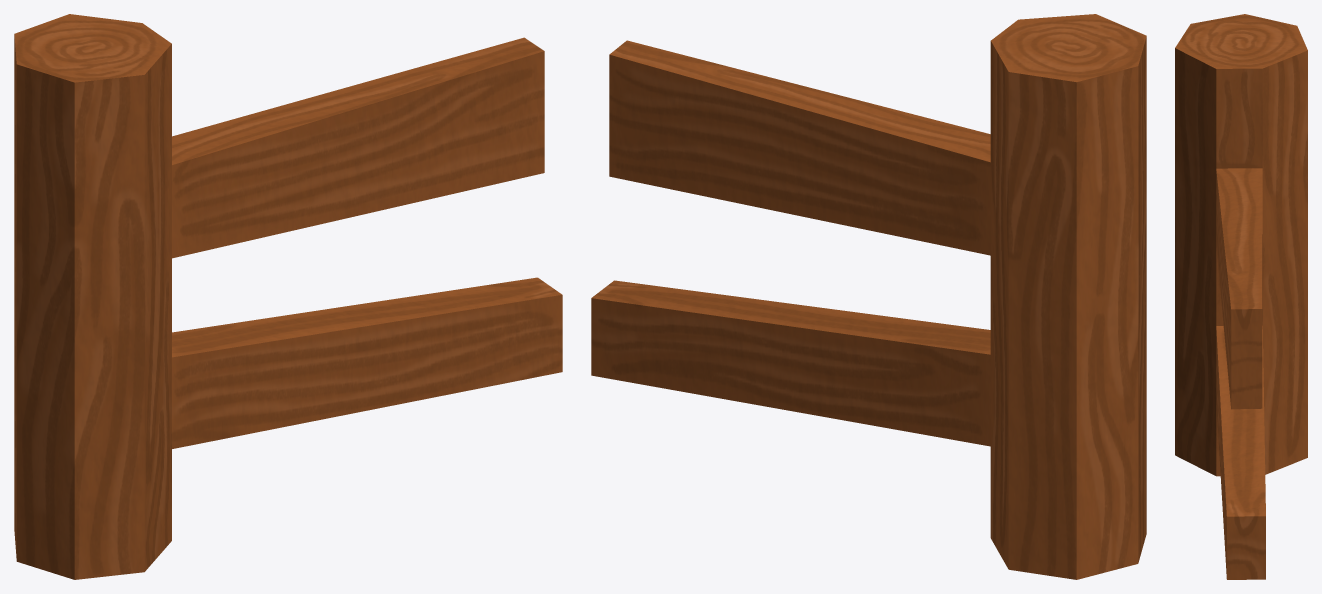
The model's file is fence2.fbx.
3 renders of one model, left to right at view 1: azimuth 30°, elevation 25°; view 2: azimuth 150°, elevation 25°; view 3: azimuth 270°, elevation 25°, orthographic. The views are drawn at different scales.
Visible parts, largest first — view 1: fence2; view 2: fence2; view 3: fence2.
Boxes of the visible parts, <box> form: fence2: <box>14,14,562,579</box>; fence2: <box>591,14,1146,579</box>; fence2: <box>1175,14,1307,579</box>.
Bounding box in the file's own units: 297 × 264 × 78.13.
